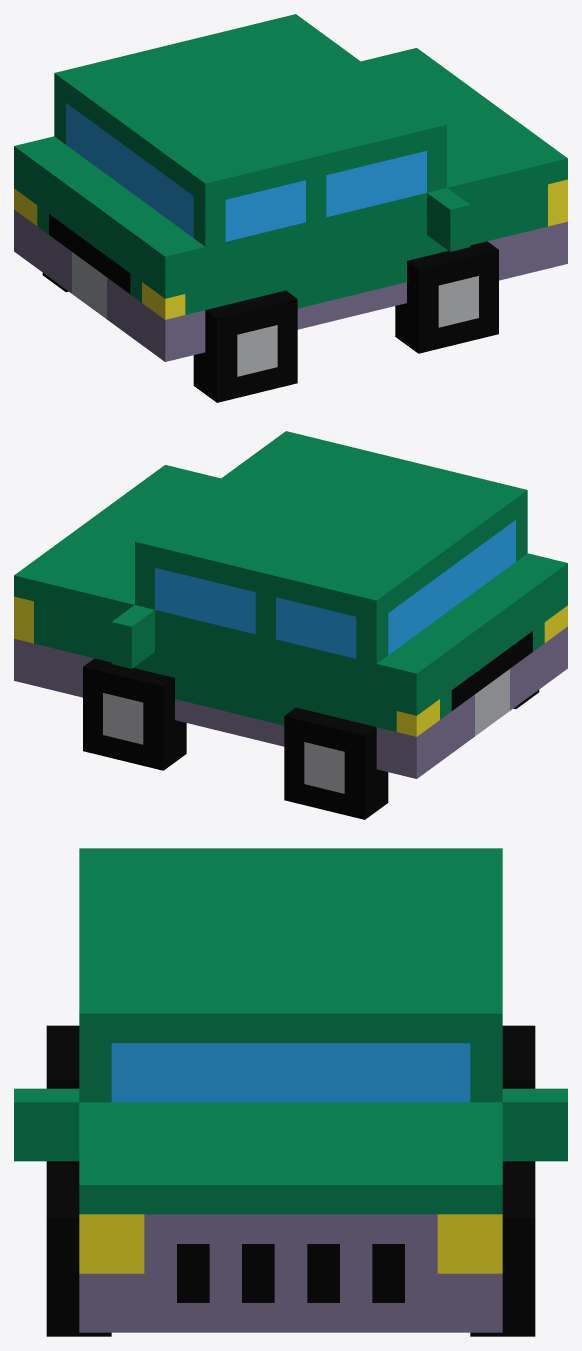
File: car_b.obj
The picture shows the model from 3 angles, top to bottom: view 1: azimuth 30°, elevation 25°; view 2: azimuth 150°, elevation 25°; view 3: azimuth 270°, elevation 25°; orthographic projection. The views are drawn at different scales.
Bounding box in the file's own units: 2 × 1 × 1.7.
1 material, 1 textured.
